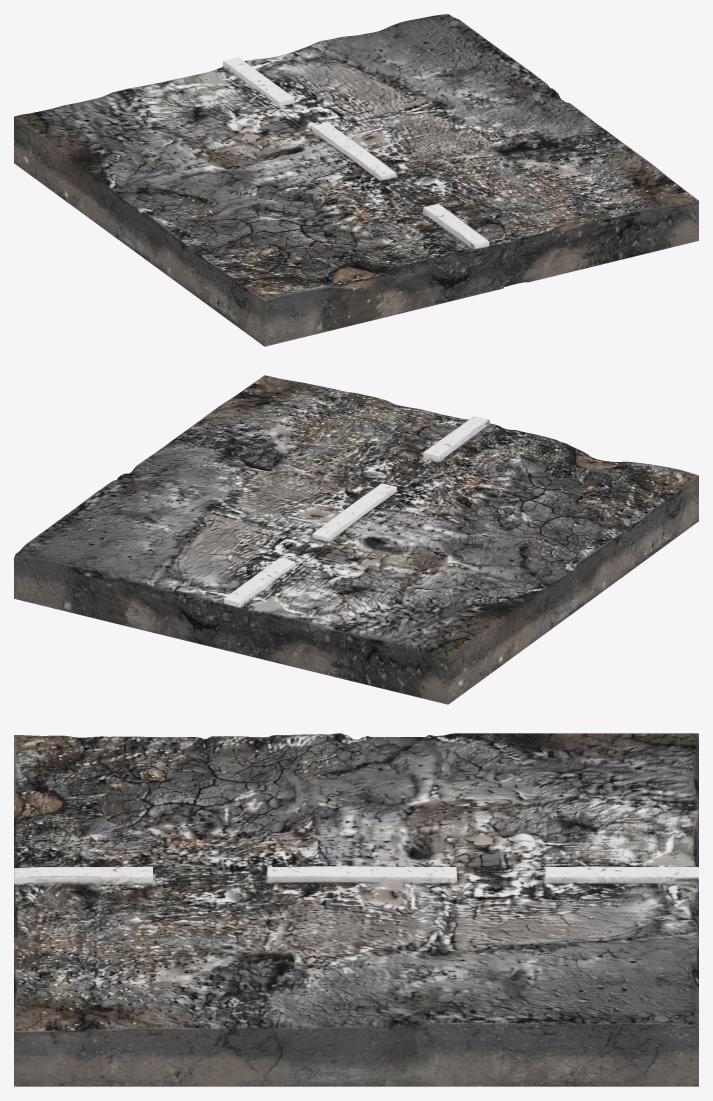
File: rua_quebrada_DKB.glb
3 renders of one model, top to bottom at view 1: azimuth 30°, elevation 25°; view 2: azimuth 150°, elevation 25°; view 3: azimuth 270°, elevation 25°, orthographic. The views are drawn at different scales.
Parts seen in each view (by area): view 1: mesh_node; view 2: mesh_node; view 3: mesh_node.
Boxes of the visible parts, box(x1,y1,x2,y2) form: mesh_node: box(14, 14, 698, 346); mesh_node: box(14, 375, 698, 704); mesh_node: box(14, 733, 698, 1086).
Size of the model in its own units: 1.9 by 0.2168 by 1.9.
Materials: 1 (1 with a texture image).
